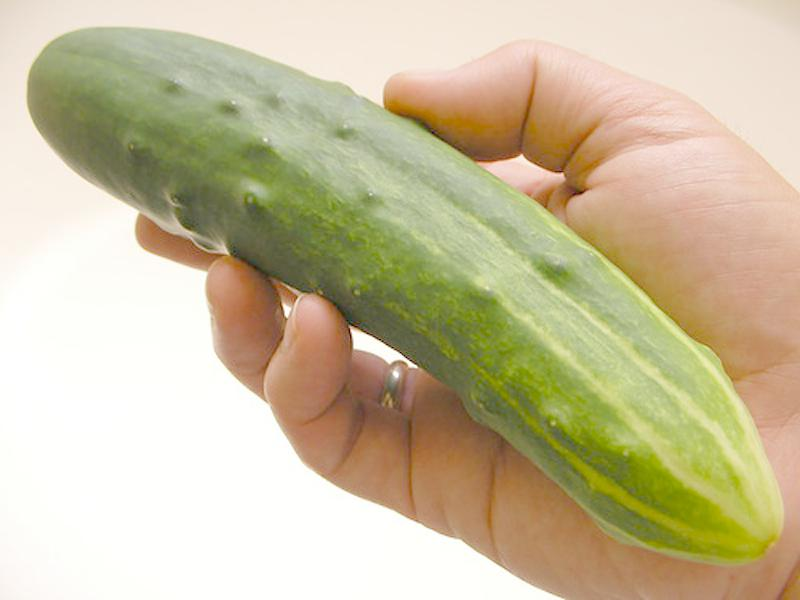Cucumber: (26, 29, 780, 565)
